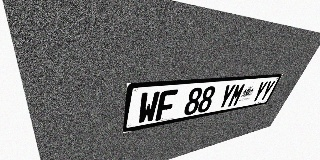8: (183, 87, 205, 116), (196, 86, 218, 113)
F: (155, 89, 178, 121)
M: (227, 83, 247, 107)
W: (137, 91, 160, 125)
Y: (216, 84, 237, 110), (250, 81, 269, 103), (258, 80, 276, 102)
